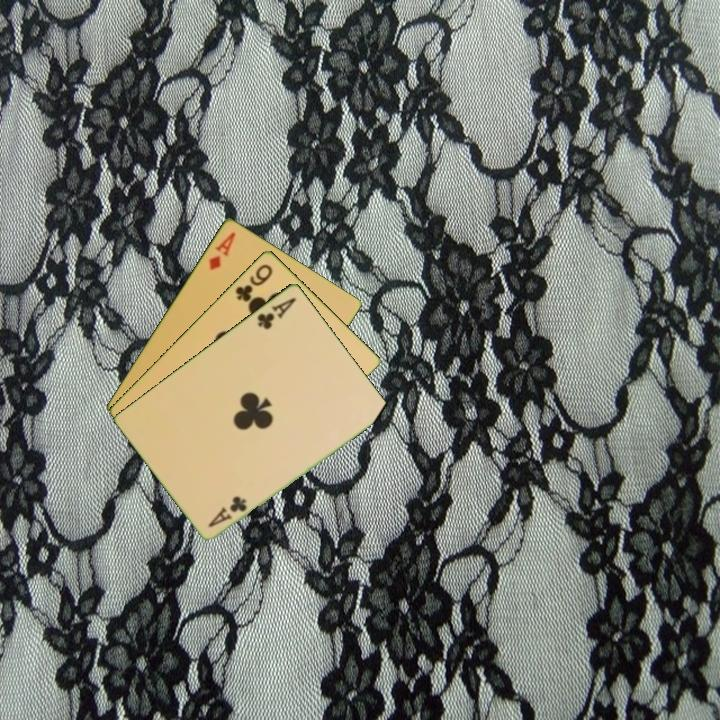9c: (232, 260, 275, 304)
Ac: (253, 293, 299, 332), (204, 492, 250, 530)
Ad: (205, 228, 238, 273)
